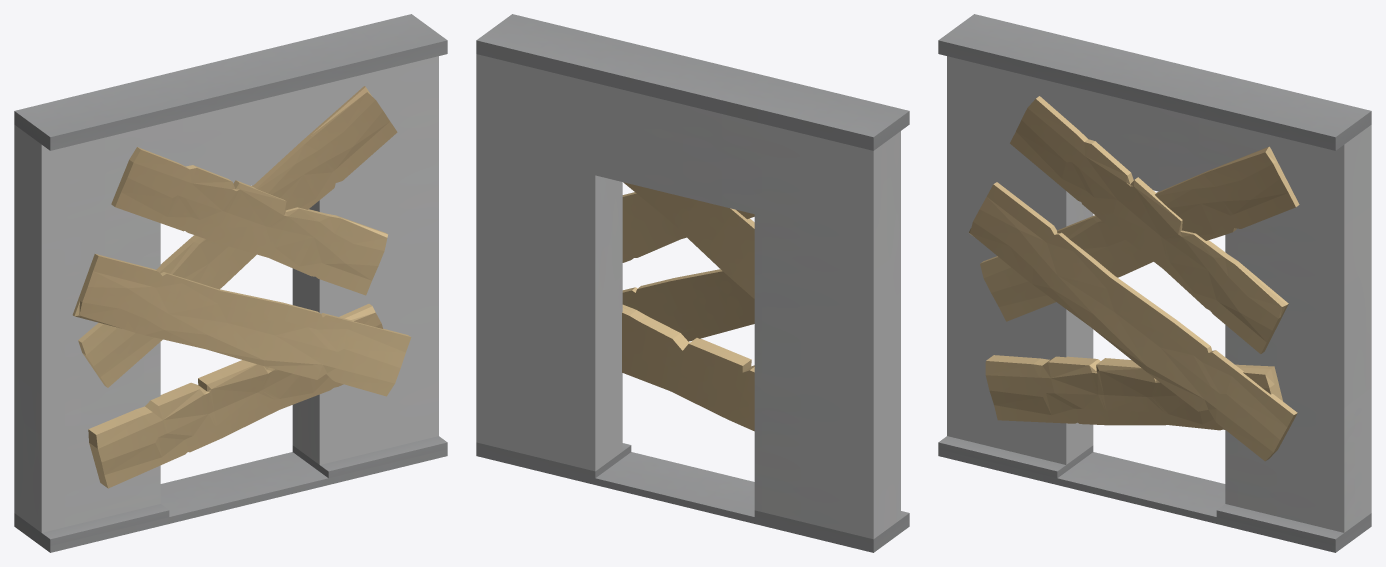
Rendered from wall_1_door_boarded.dae.
3 views of the same model, side by side, from view 1: azimuth 30°, elevation 25°; view 2: azimuth 150°, elevation 25°; view 3: azimuth 330°, elevation 25° (orthographic).
Visible parts, largest first — view 1: wall_1_door, board_4, board_3, board_2, board_1; view 2: wall_1_door, board_2, board_4, board_1, board_3; view 3: wall_1_door, board_4, board_3, board_2, board_1.
Part boxes in pixels (<box>): wall_1_door: <box>14,14,447,552</box>; board_4: <box>72,254,411,396</box>; board_3: <box>111,147,387,295</box>; board_2: <box>88,304,382,488</box>; board_1: <box>78,86,397,387</box>; wall_1_door: <box>476,14,909,552</box>; board_2: <box>622,304,754,431</box>; board_4: <box>622,269,754,341</box>; board_1: <box>623,182,754,298</box>; board_3: <box>622,192,754,262</box>; wall_1_door: <box>938,14,1371,552</box>; board_4: <box>968,182,1297,461</box>; board_3: <box>1010,96,1288,353</box>; board_2: <box>985,355,1282,430</box>; board_1: <box>980,146,1299,321</box>.
Bounding box in the file's own units: 2 × 0.3559 × 2.
